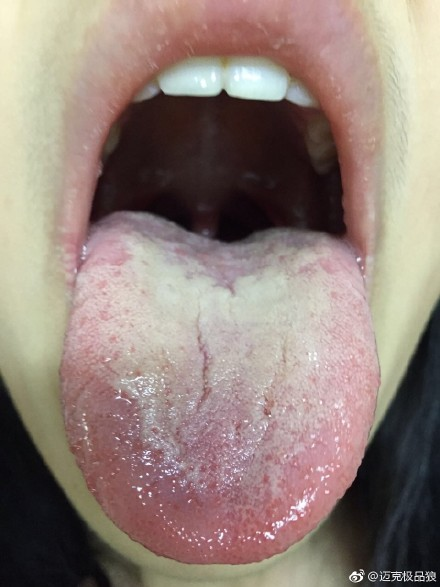botaishe: (76, 230, 132, 277)
huangtaishe: (61, 209, 381, 566)
liewenshe: (193, 312, 211, 411)
